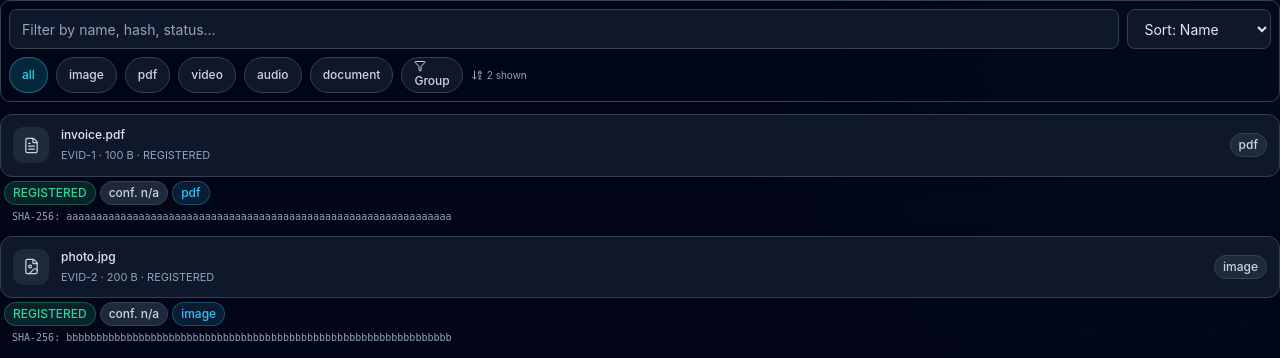
Test: phase 11c investigator productivity › filters evidence client-side without API changes
Step 1. Type "invoice" into the field named "Filter evidence" → (564, 29), box x1=9 y1=9 x2=1119 y2=49
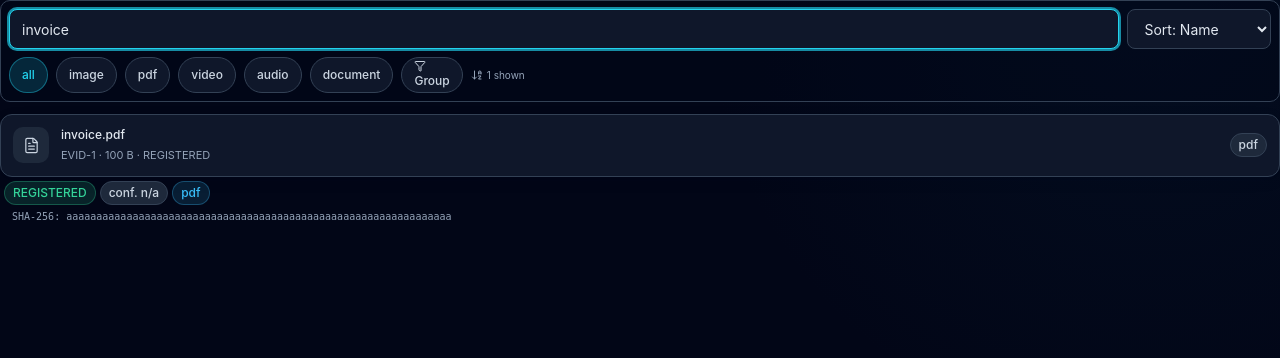
Expected: the text "invoice.pdf" is shown, x1=61 y1=127 x2=125 y2=142
Expected: the text "photo.jpg" is gone
